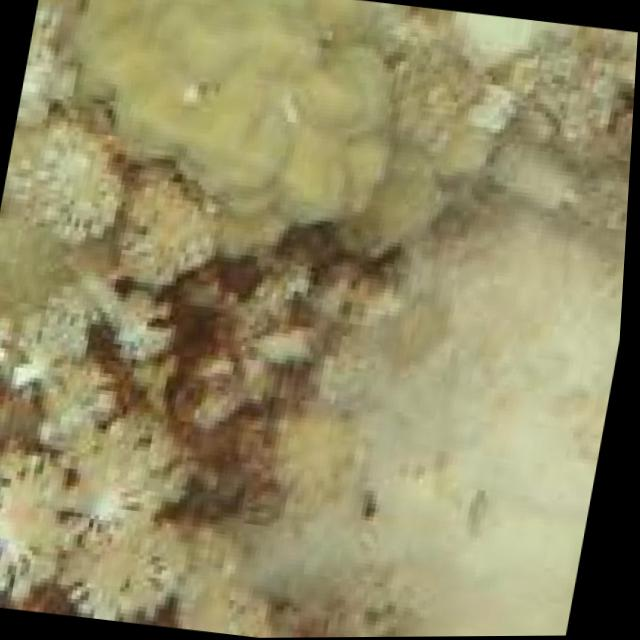Bleached Coral: (274, 189, 631, 638), (0, 426, 89, 608), (7, 110, 135, 235), (82, 410, 205, 523), (62, 522, 194, 615), (88, 284, 186, 371), (0, 299, 91, 390)
Healthy Coral: (79, 0, 415, 179), (443, 11, 534, 86)
